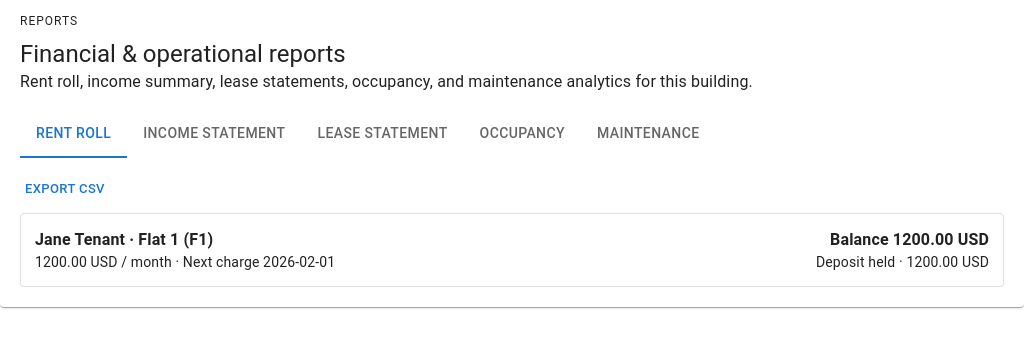
shows the occupancy report
Click the tab "Occupancy": (522, 134) [464,110,581,158]
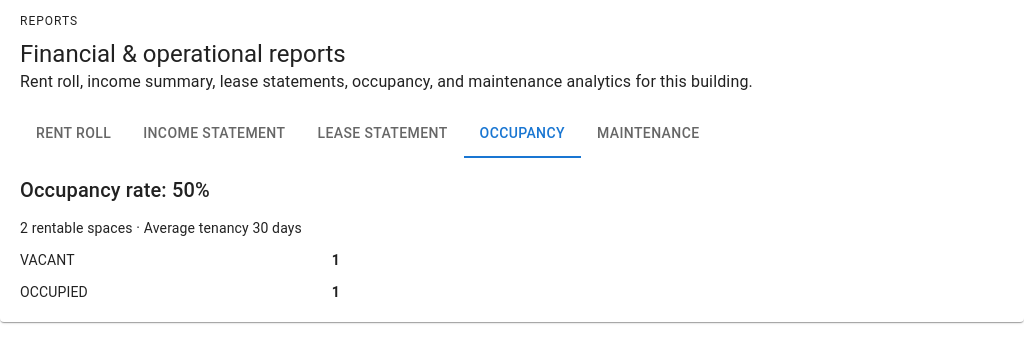
Now the heading "Occupancy rate: 50%" is shown, box [20,178,210,202]
Now the text "2 rentable spaces · Average tenancy 30 days" is shown, box [20,220,302,236]
